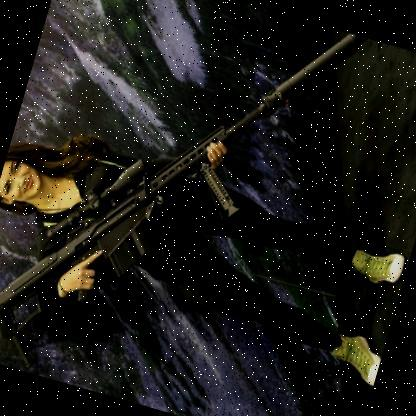rifle: (0, 0, 370, 416)
